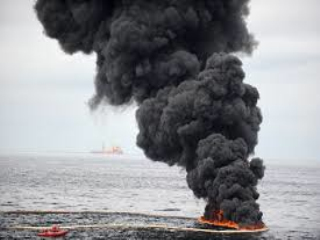fire: (204, 213, 259, 232)
smoke: (109, 3, 262, 214)
